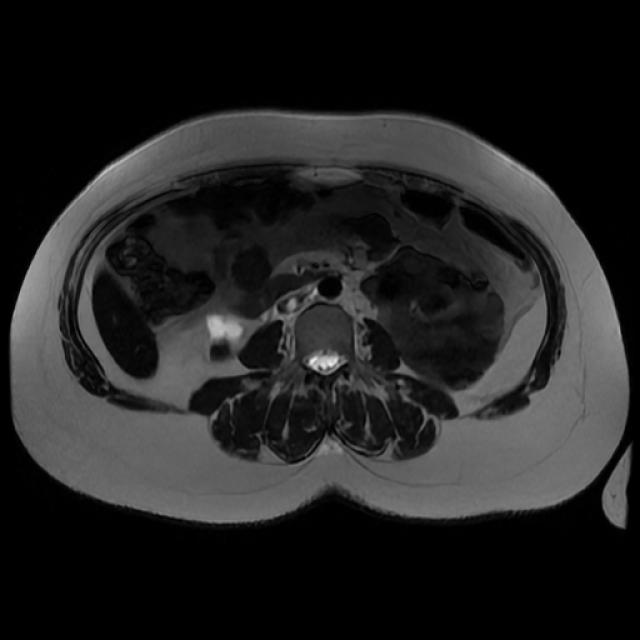sag: (207, 314, 244, 363)
sol: (365, 246, 505, 389)
